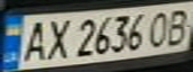2: (72, 15, 96, 58)
3: (109, 11, 133, 54)
6: (124, 10, 151, 52), (90, 14, 115, 56)
A: (18, 17, 51, 63)
B: (160, 6, 193, 46)
O: (145, 8, 175, 48)
X: (39, 16, 72, 61)
